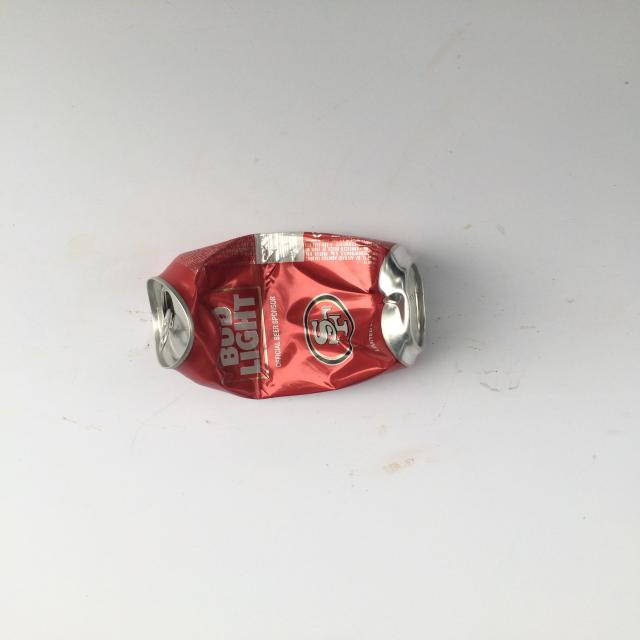Metal: (143, 224, 449, 401)
